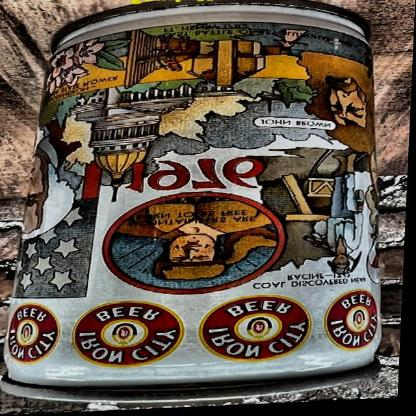Can: (0, 0, 404, 414)
